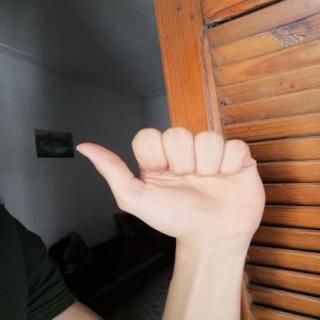DAD: (61, 122, 276, 249)
